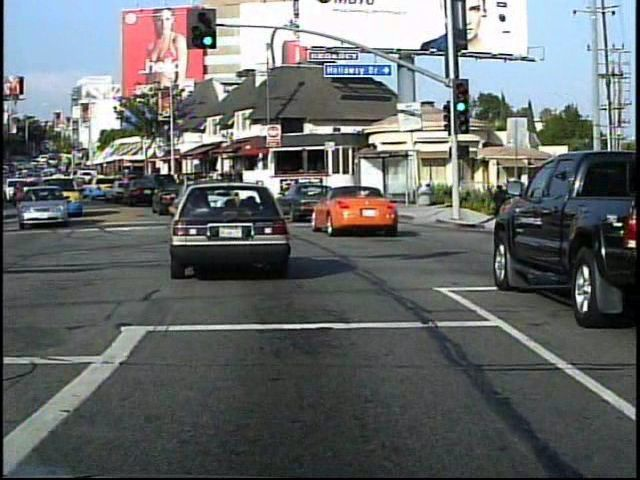person: (570, 186, 594, 247), (489, 182, 509, 230)
